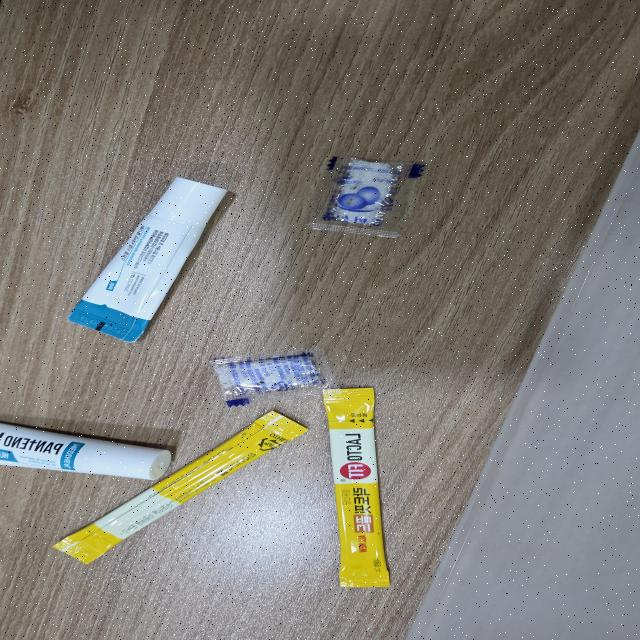lacto: (43, 404, 319, 571), (317, 384, 402, 590)
lip: (59, 167, 243, 348), (0, 417, 186, 484)
salt: (292, 148, 443, 238), (204, 349, 348, 410)
